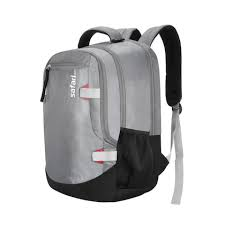backpack: (39, 24, 183, 203)
